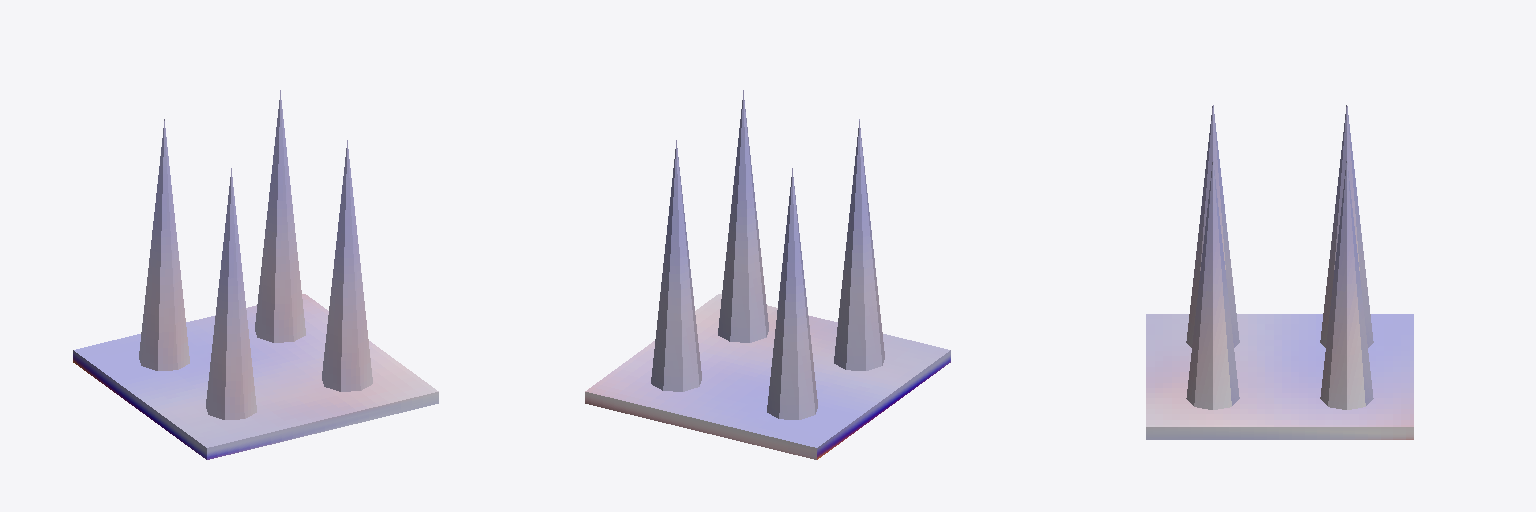
The picture shows the model from 3 angles: view 1: azimuth 30°, elevation 25°; view 2: azimuth 150°, elevation 25°; view 3: azimuth 270°, elevation 25°; orthographic projection.
Parts seen in each view (by area): view 1: polySurface7; view 2: polySurface7; view 3: polySurface7.
Part boxes in pixels (x1,y1,x2,y2): polySurface7: (73, 90, 438, 459); polySurface7: (585, 90, 950, 459); polySurface7: (1146, 105, 1413, 439).
Size of the model in its own units: 100 by 105 by 100.
1 materials, 1 textured.